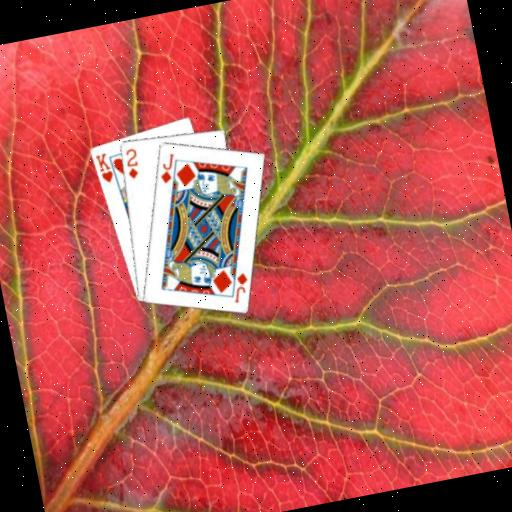2D: (121, 145, 143, 181)
JD: (153, 150, 180, 186), (226, 269, 253, 305)
KH: (92, 149, 116, 186)
